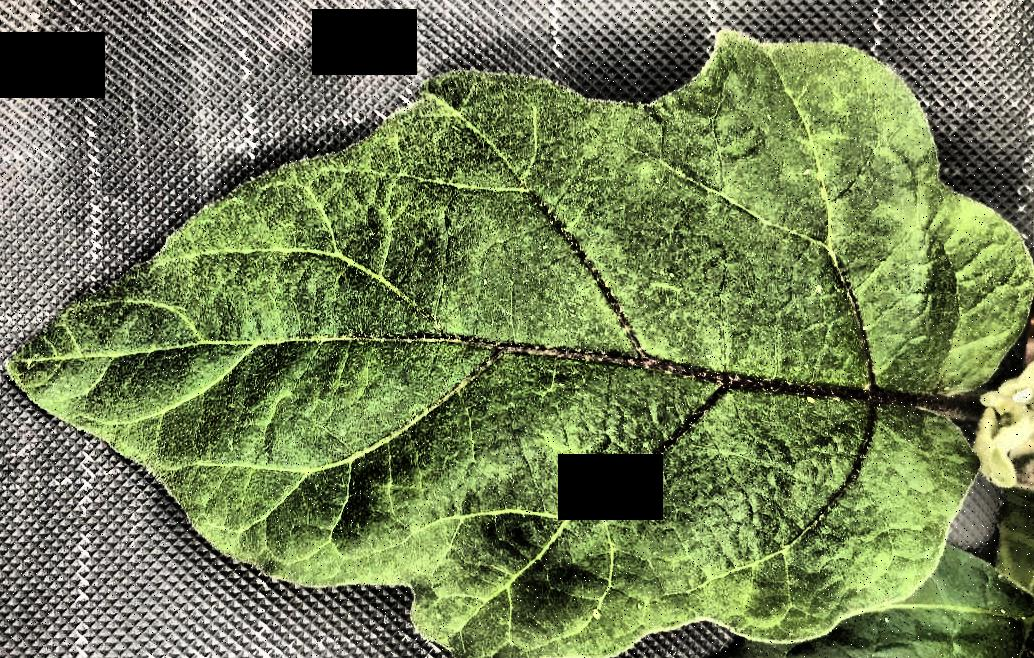HEALTHY: (0, 1, 1034, 658)
